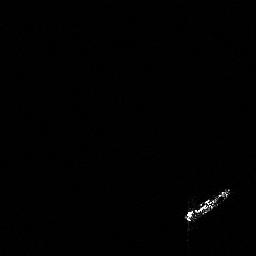ship: (180, 184, 234, 225)
